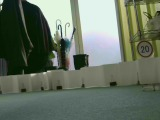speed_20: (136, 40, 154, 58)
